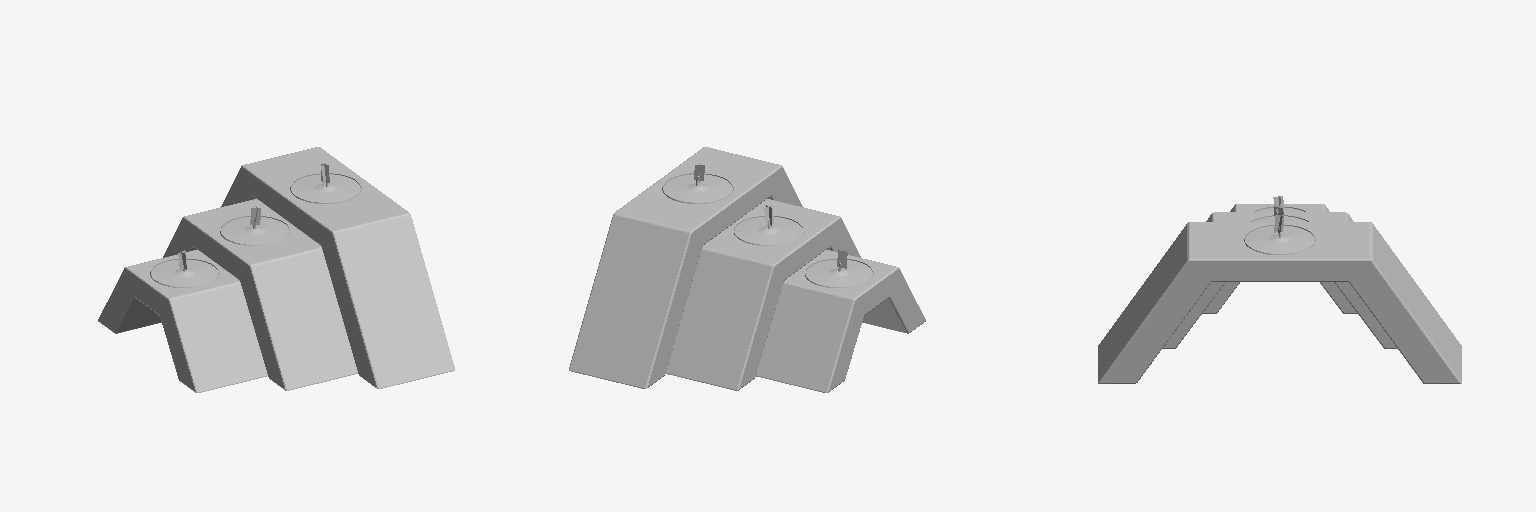
File: Vela.obj
3 renders of one model, left to right at view 1: azimuth 30°, elevation 25°; view 2: azimuth 150°, elevation 25°; view 3: azimuth 270°, elevation 25°, orthographic.
Parts seen in each view (by area): view 1: Cube.010, Cube.012, Cube.011; view 2: Cube.010, Cube.012, Cube.011; view 3: Cube.010, Cube.012, Cube.011.
Boxes of the visible parts, x1,y1,x2,y2 form: Cube.010: [221, 147, 454, 388]; Cube.012: [163, 199, 357, 390]; Cube.011: [98, 250, 267, 392]; Cube.010: [569, 147, 802, 388]; Cube.012: [666, 199, 860, 390]; Cube.011: [756, 250, 925, 392]; Cube.010: [1098, 213, 1461, 383]; Cube.012: [1163, 205, 1396, 348]; Cube.011: [1202, 196, 1357, 313].
Size of the model in its own units: 0.3609 by 0.237 by 0.5202.